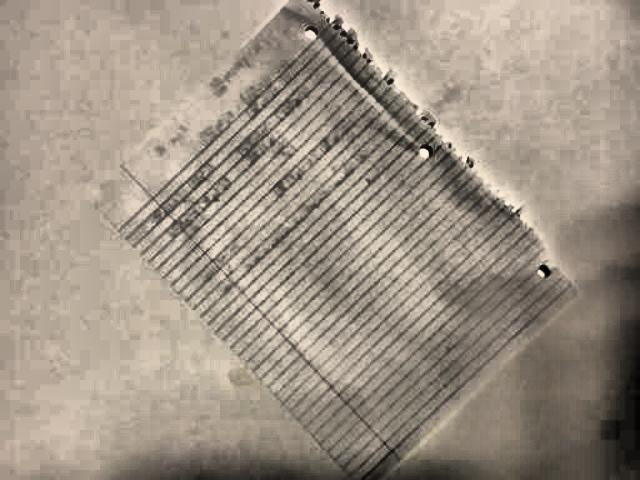Paper: (86, 0, 579, 480)
